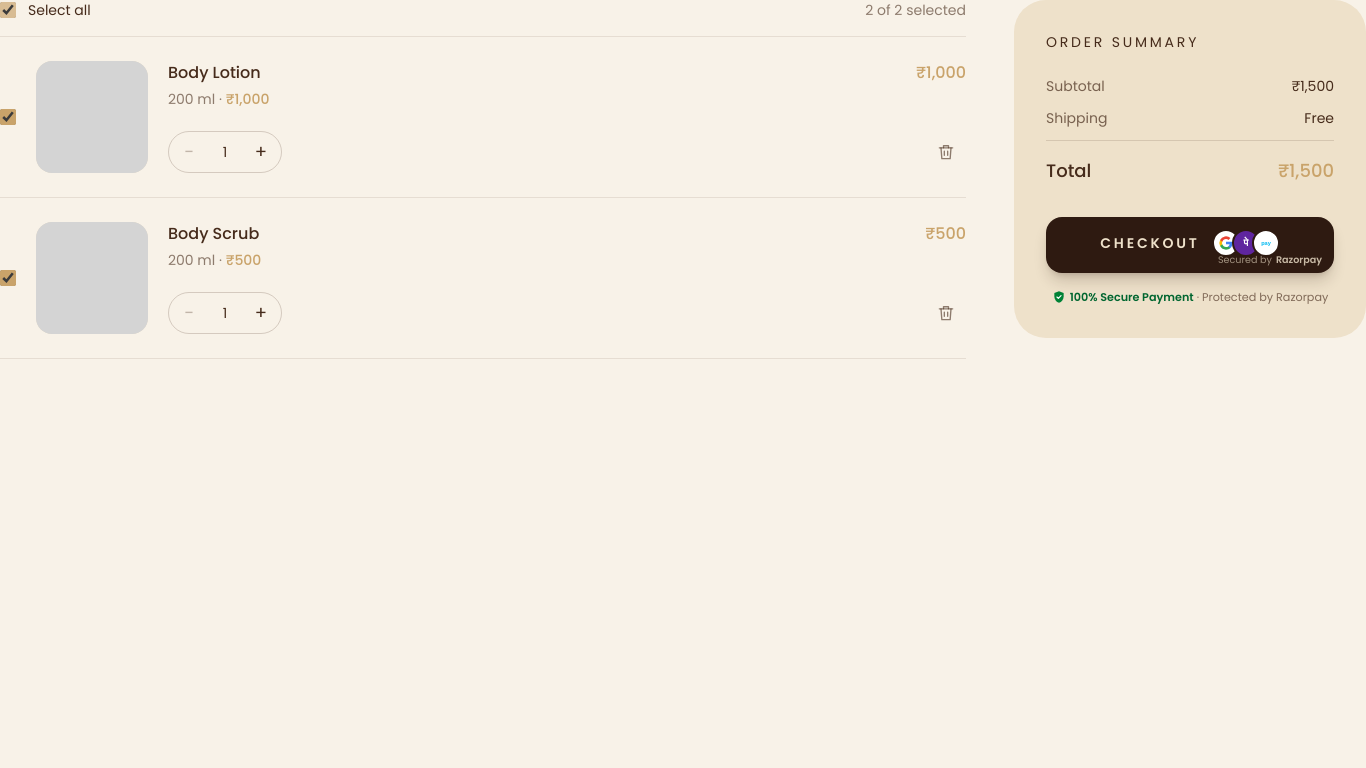
it: CartView › the bin asks first; Remove takes the item out
Click the button named "Remove Body Scrub".
click(946, 313)  # box x1=926 y1=293 x2=966 y2=333
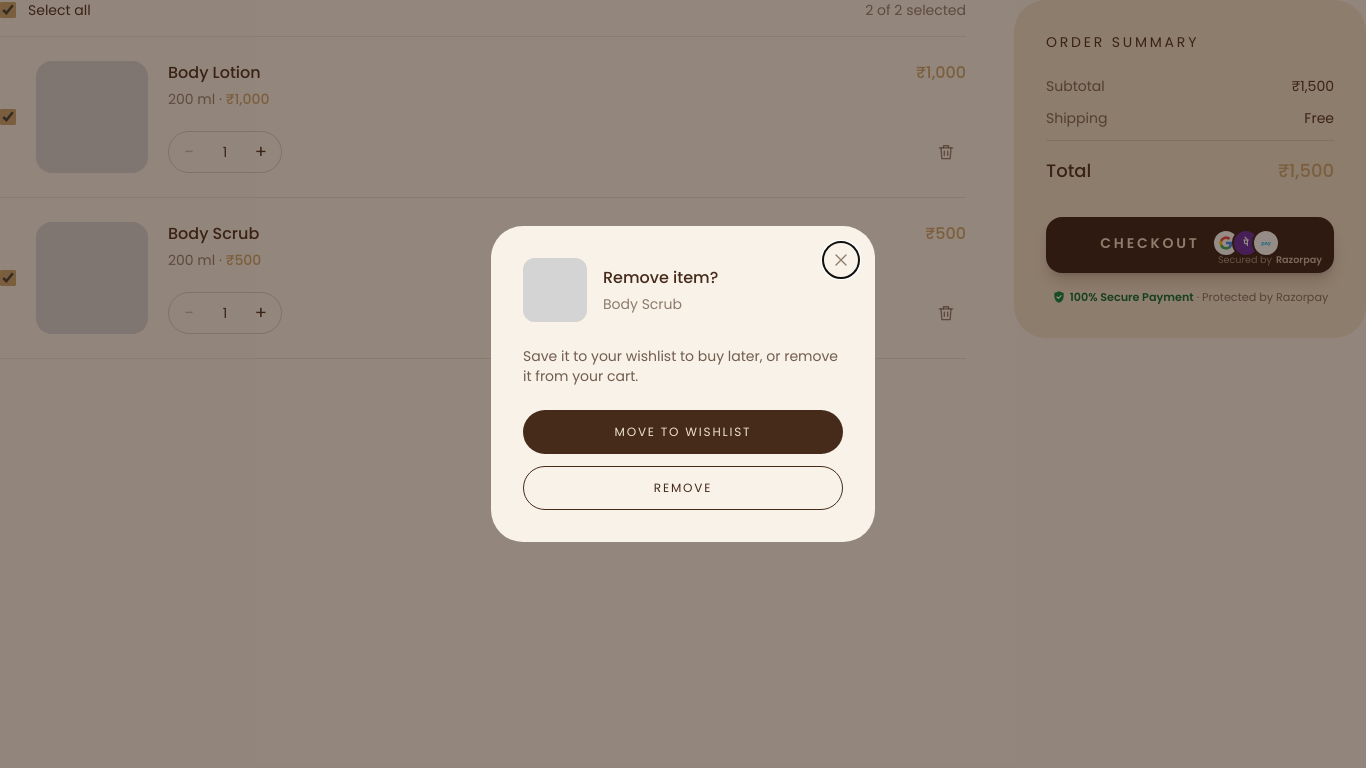
Click the button "Remove".
click(683, 488)  # box x1=523 y1=466 x2=843 y2=510
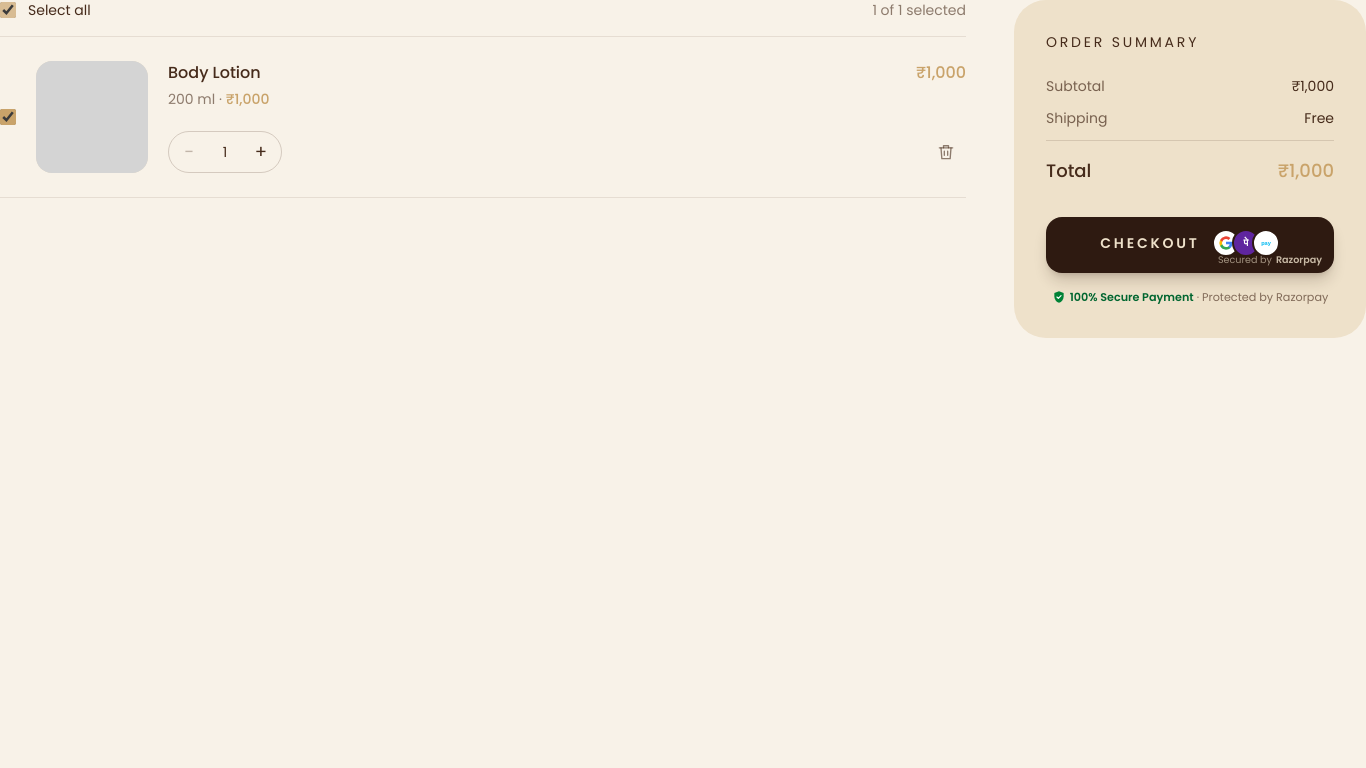
expect the link "Body Scrub" is gone: met
